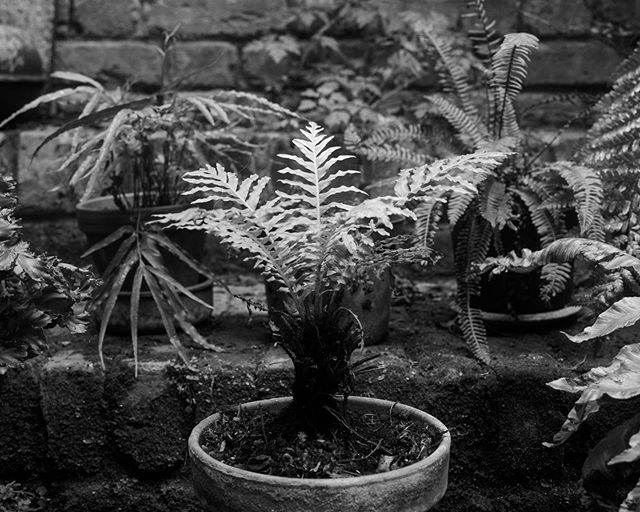vegetation: (75, 57, 640, 477)
